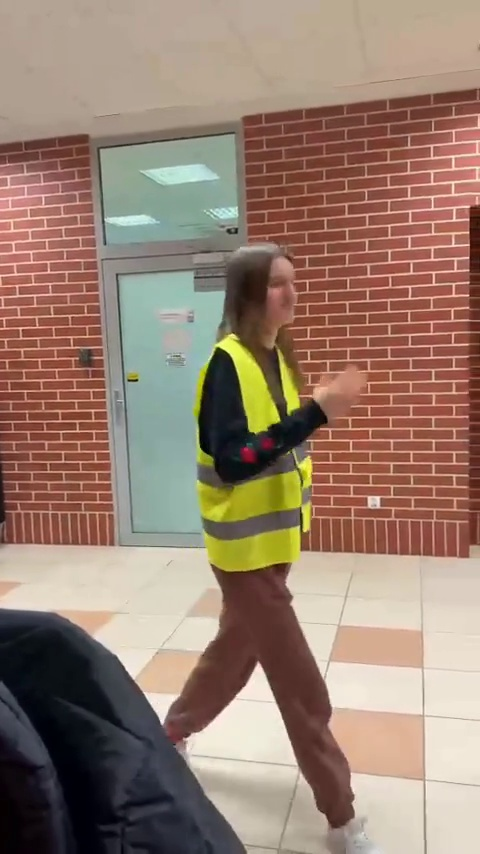vest: (169, 244, 369, 774)
